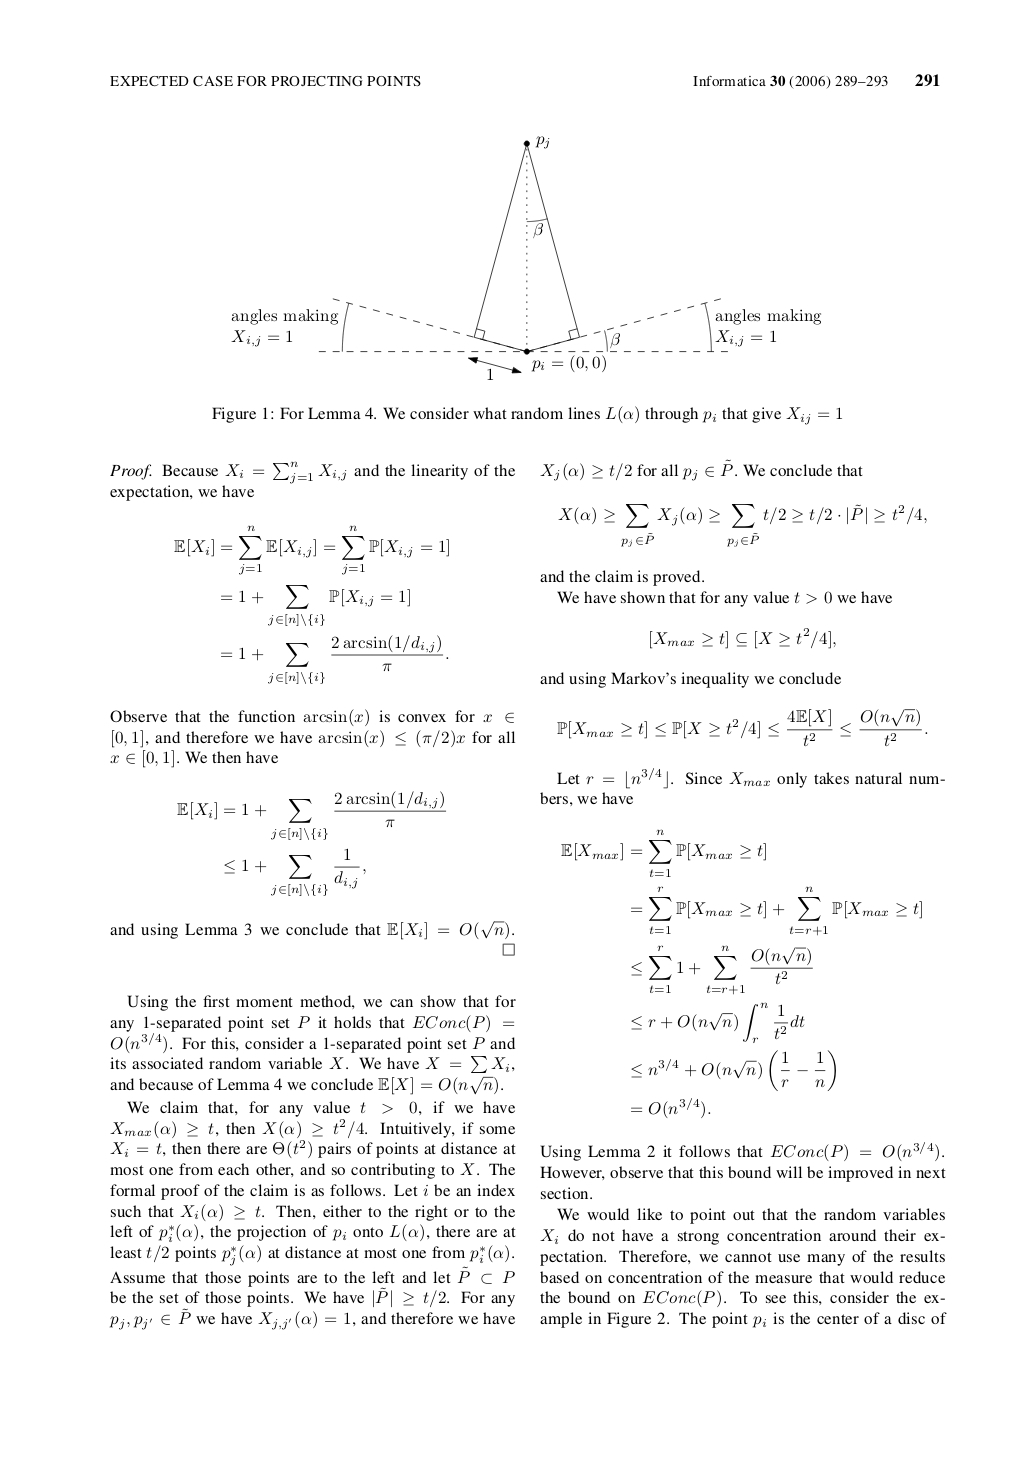figure: (231, 135, 821, 380), (502, 943, 514, 956)
formula: (558, 504, 926, 545), (557, 708, 927, 747), (632, 886, 921, 935), (174, 525, 449, 574), (177, 790, 445, 840), (221, 634, 449, 684), (561, 829, 765, 876), (632, 944, 812, 995), (632, 1049, 835, 1091), (221, 584, 409, 625), (632, 1001, 804, 1043), (224, 847, 365, 896), (651, 627, 835, 649), (632, 1096, 710, 1119)
